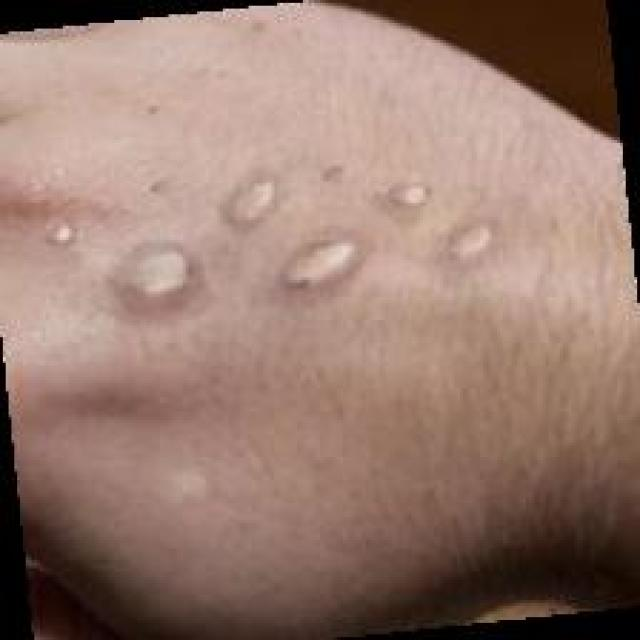monkeypox: (3, 80, 610, 478)
